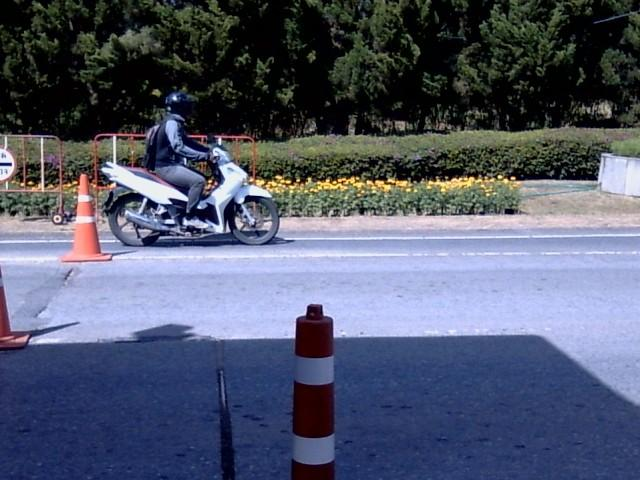helmet: (166, 90, 196, 120)
motor: (101, 146, 279, 245)
person: (147, 92, 209, 228)
